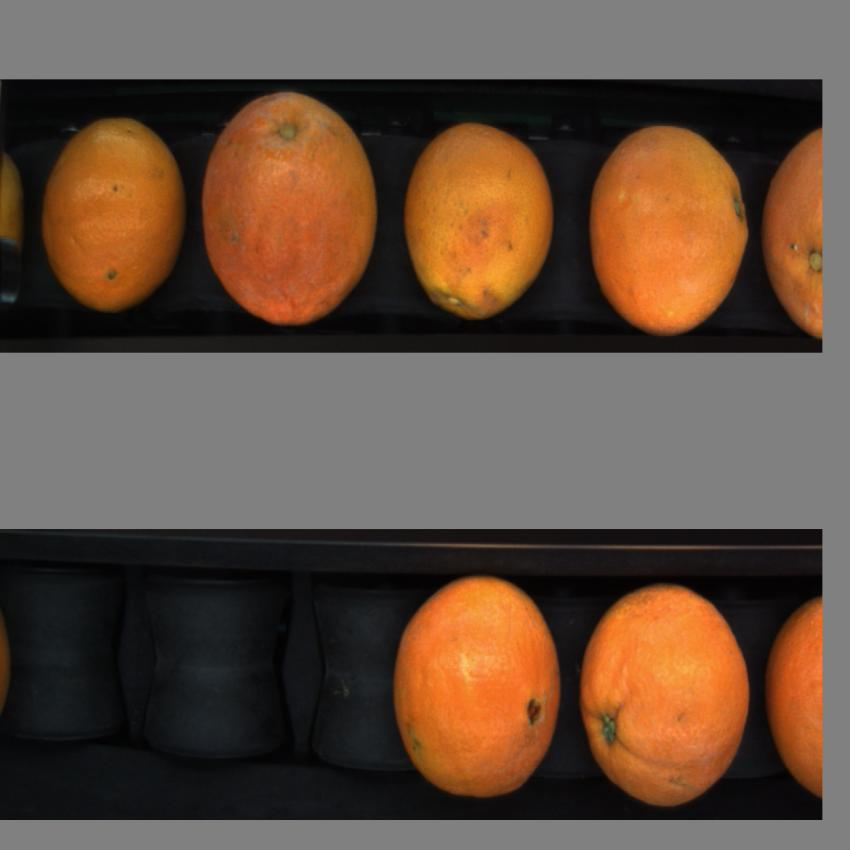Buen estado: (579, 574, 754, 810), (390, 573, 566, 800), (586, 118, 753, 336), (402, 112, 556, 325), (38, 104, 191, 318), (765, 592, 822, 804)
Mal estado: (201, 93, 382, 321), (764, 121, 822, 336)
